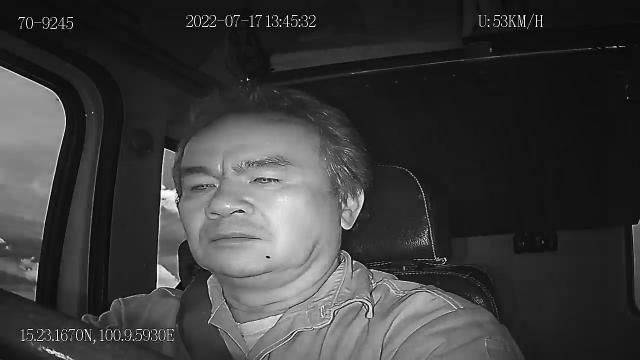SafeDriving: (242, 166, 290, 191), (182, 173, 222, 200)
Seatbelt: (174, 274, 236, 360)
